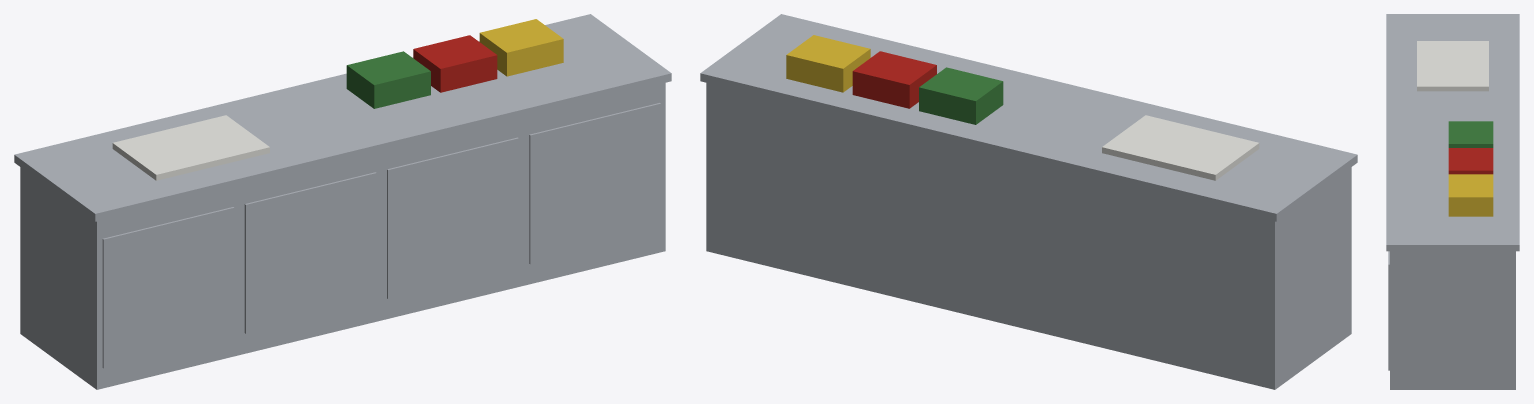
File: prep counter.glb
3 renders of one model, left to right at view 1: azimuth 30°, elevation 25°; view 2: azimuth 150°, elevation 25°; view 3: azimuth 270°, elevation 25°, orthographic. The views are drawn at different scales.
Visible parts, largest first — view 1: prep counter; view 2: prep counter; view 3: prep counter.
Part boxes in pixels (x1=…): prep counter: x1=14, y1=14, x2=671, y2=389; prep counter: x1=700, y1=14, x2=1357, y2=389; prep counter: x1=1386, y1=14, x2=1519, y2=389.
Size of the model in its own units: 3.04 by 1.02 by 0.74.
